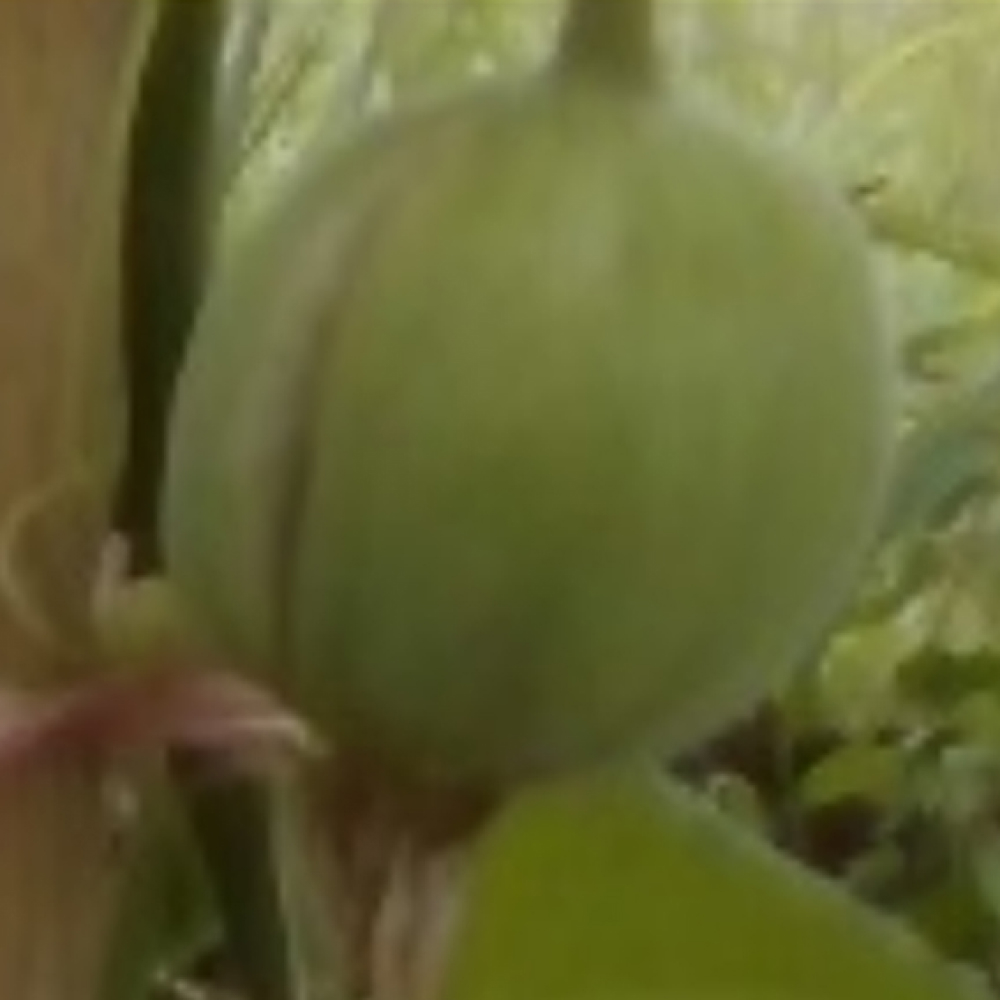melon: (152, 66, 900, 799)
